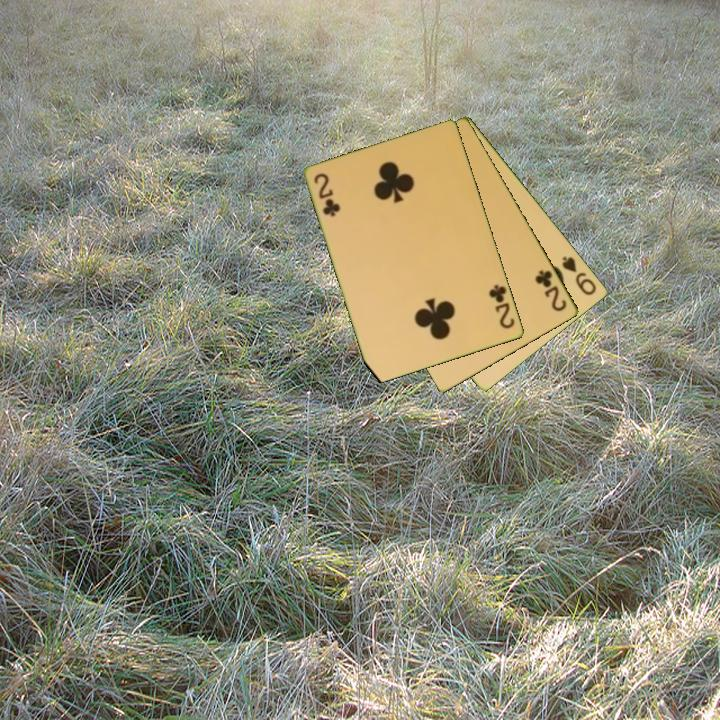2c: (532, 267, 570, 315), (486, 281, 518, 332), (311, 170, 343, 220)
9s: (559, 252, 599, 299)
